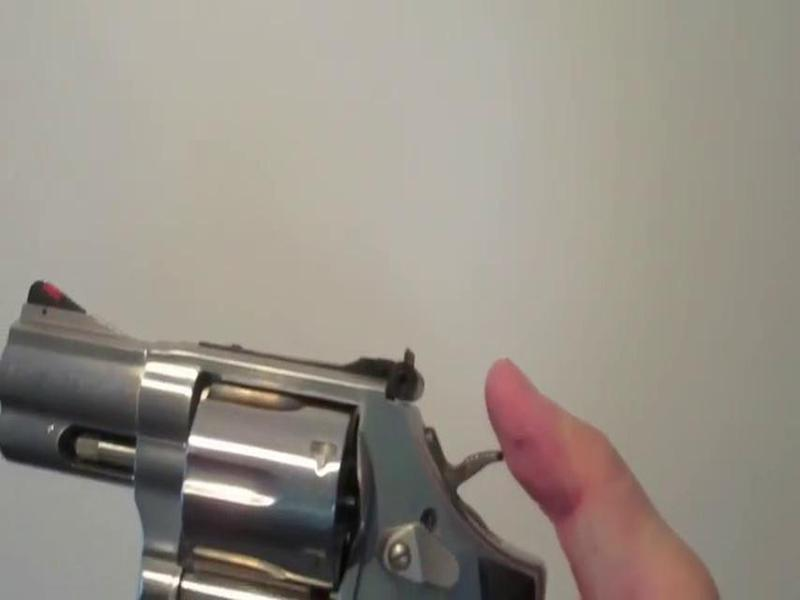Revolver: (10, 267, 571, 600)
